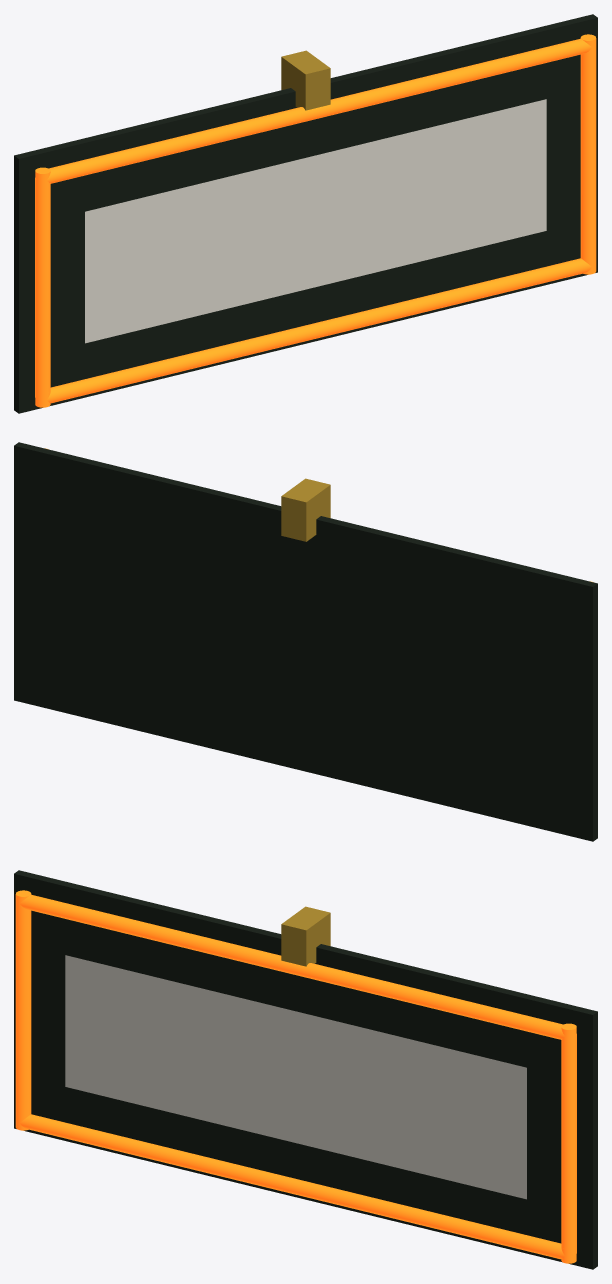
Rendered from neon-sign.glb.
3 renders of one model, top to bottom at view 1: azimuth 30°, elevation 25°; view 2: azimuth 150°, elevation 25°; view 3: azimuth 330°, elevation 25°, orthographic.
Parts seen in each view (by area): view 1: backer, neon_text_slot, tube_bottom, tube_top, tube_right, tube_left, mount_bar; view 2: backer, mount_bar; view 3: backer, neon_text_slot, tube_bottom, tube_top, tube_left, tube_right, mount_bar.
Boxes of the visible parts, x1,y1,x2,y2 form: backer: [14, 14, 597, 413]; neon_text_slot: [85, 99, 546, 343]; tube_bottom: [47, 258, 591, 403]; tube_top: [47, 38, 591, 183]; tube_right: [580, 46, 596, 266]; tube_left: [35, 178, 50, 400]; mount_bar: [281, 50, 330, 110]; backer: [14, 442, 597, 841]; mount_bar: [281, 478, 330, 541]; backer: [14, 870, 597, 1269]; neon_text_slot: [65, 955, 526, 1199]; tube_bottom: [20, 1114, 564, 1259]; tube_top: [20, 894, 564, 1039]; tube_left: [15, 902, 31, 1122]; tube_right: [561, 1034, 576, 1256]; mount_bar: [281, 906, 330, 966].
Bounding box in the file's own units: 1.38 × 0.635 × 0.106.
